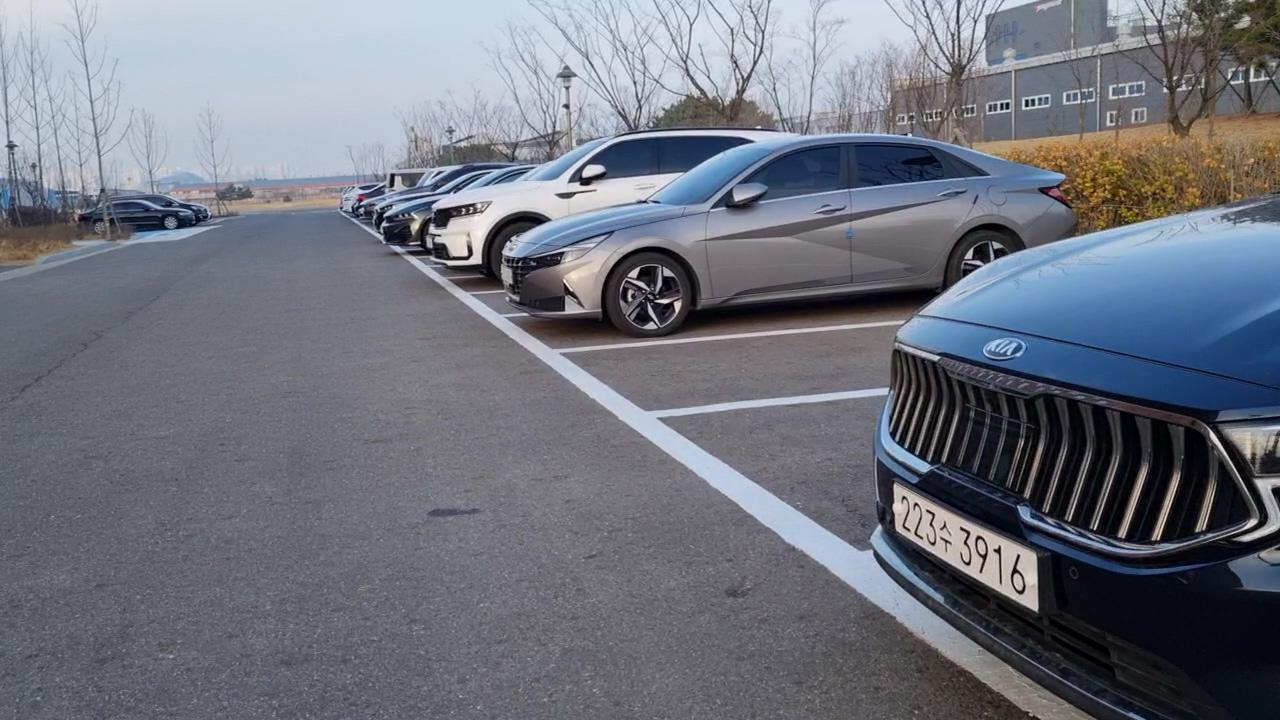empty: (550, 281, 889, 428)
occupied: (849, 233, 1280, 697), (494, 151, 955, 362), (430, 200, 504, 300)
